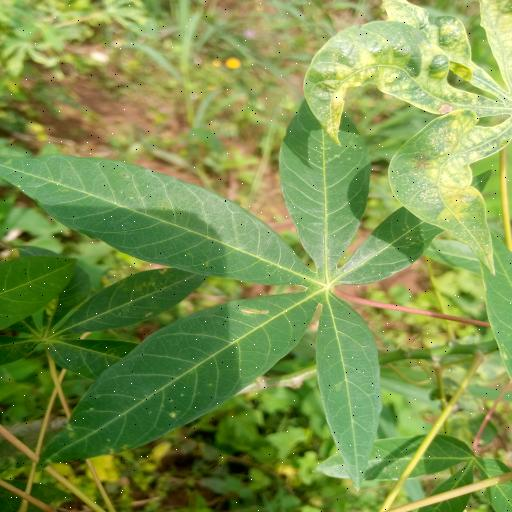Cassava_Brown_Leaf_Spot: (0, 102, 481, 486)
